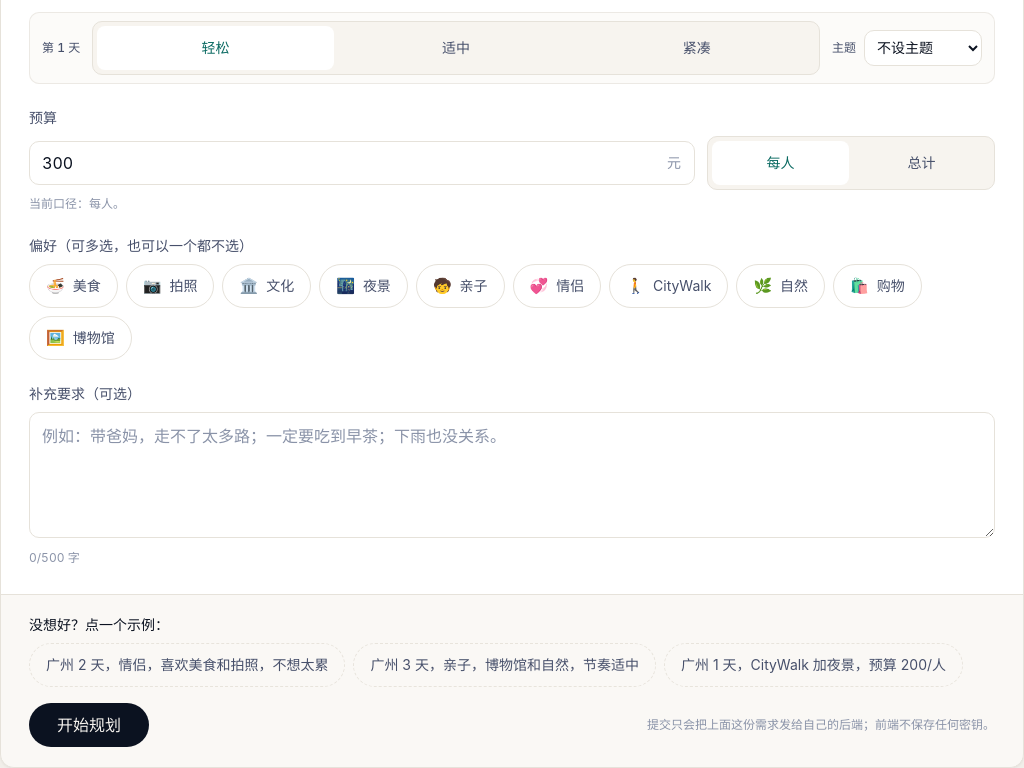
Scenario: PlannerForm 提交 › 提交期间按钮禁用 + aria-busy + 可见反馈，且无法重复提交
(page scrolled)
What coordinates should you click on to do the following:
click the button "开始规划"
I would click on:
 (89, 725)
Its box is [29,703,149,747].
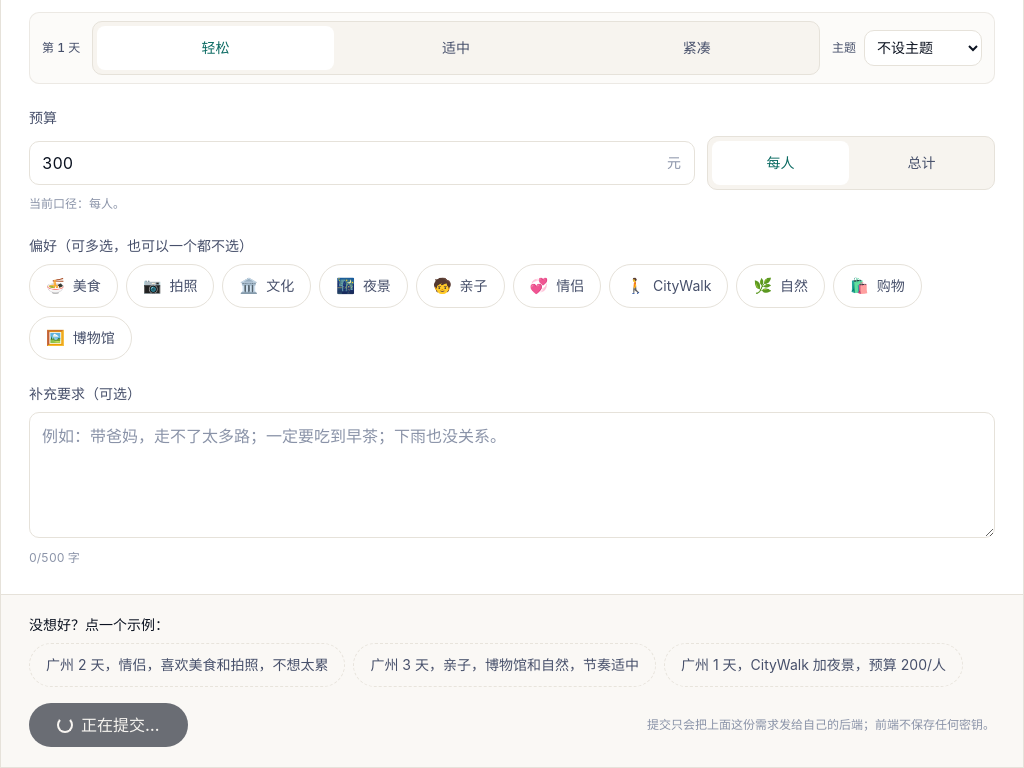
Result: the button "正在提交…" is disabled
Result: the button "开始规划" is gone
What coordinates should you click on to do the following:
click the button "正在提交…"
I would click on:
 (108, 725)
Its box is [29,703,188,747].
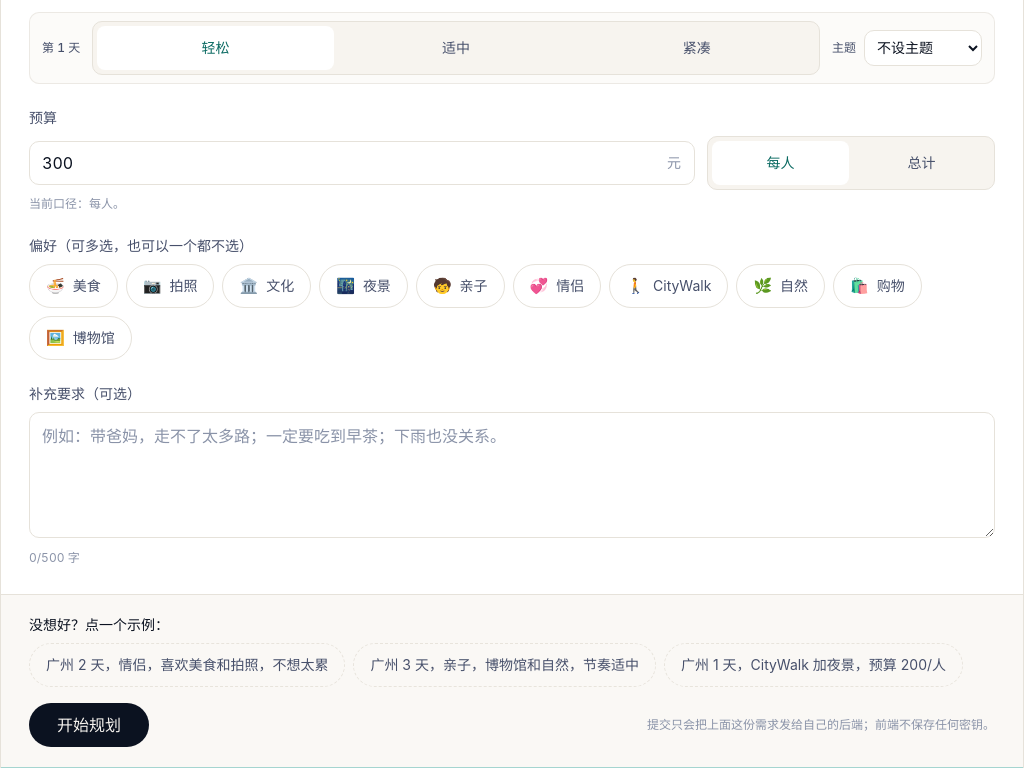
Result: the button "开始规划" is enabled at [29,703,149,747]
